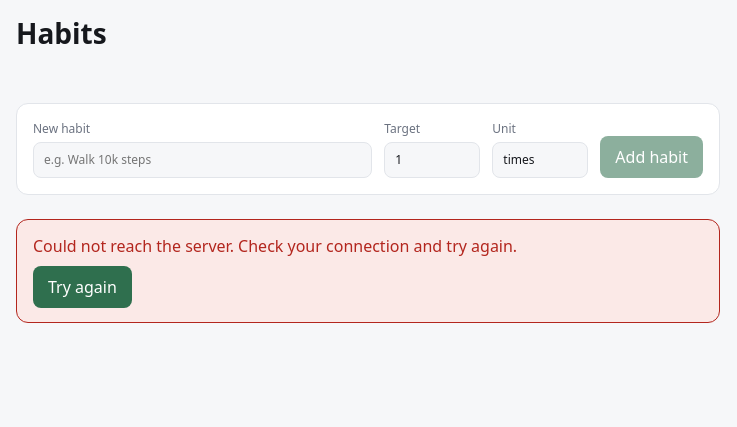
HabitDashboard › offers a retry when the dashboard cannot be loaded
Click the button "Try again": coordinates (82, 287) x1=33 y1=266 x2=132 y2=308
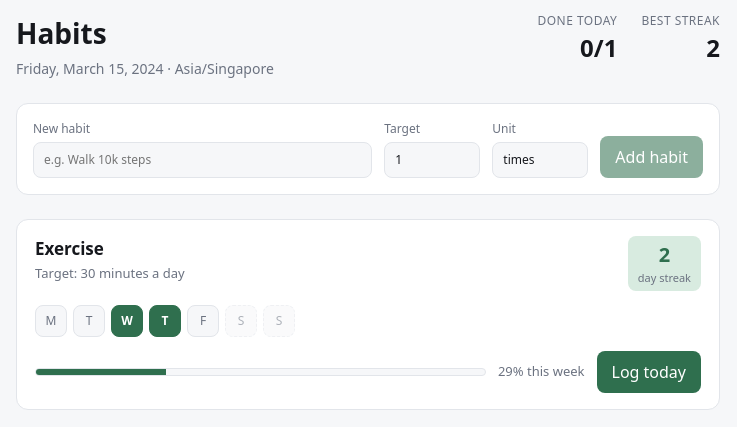
Expected: the heading "Exercise" is shown, x1=35 y1=237 x2=104 y2=260
